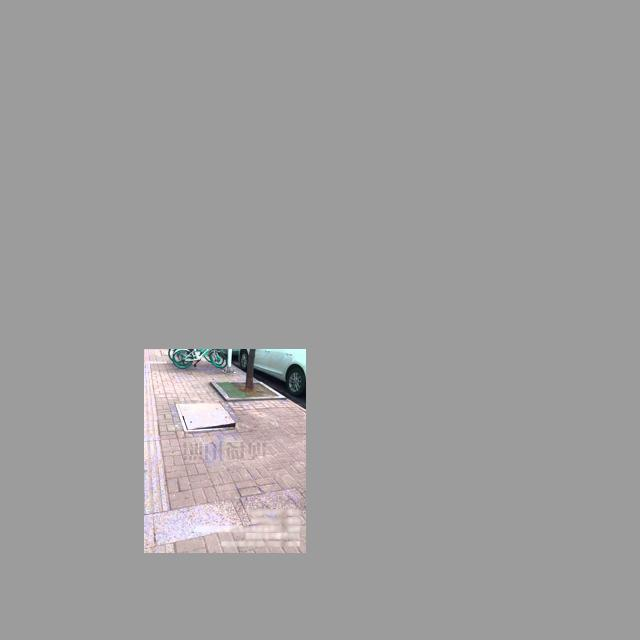uncovered: (182, 406, 236, 429)
